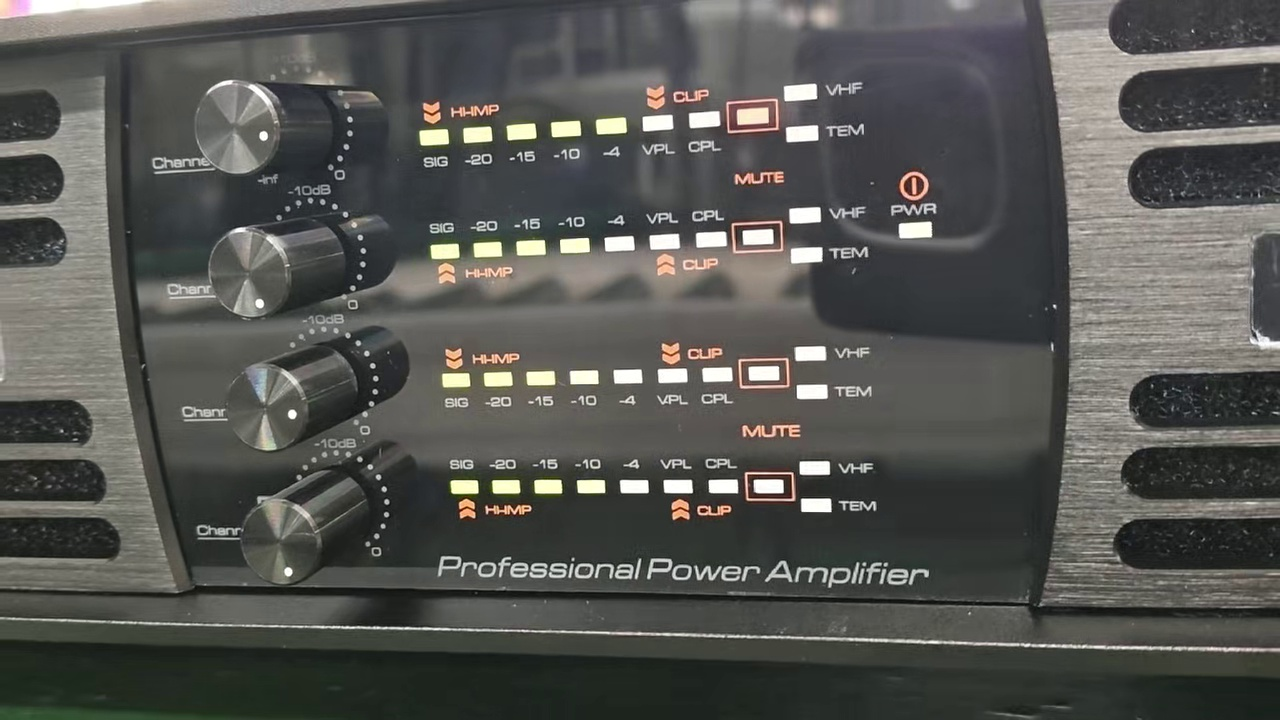FP_CPL: (684, 108, 725, 159), (690, 206, 729, 252), (702, 455, 739, 501), (699, 363, 736, 409)
FP_PWR: (889, 201, 939, 242)
FP_PWR_area: (885, 165, 944, 251)
FP_SIG_area: (412, 72, 877, 174), (424, 201, 873, 286), (437, 450, 887, 527), (436, 342, 881, 408)
FP_VPL: (639, 107, 680, 164), (645, 206, 685, 250), (659, 454, 698, 499), (654, 365, 693, 408)
